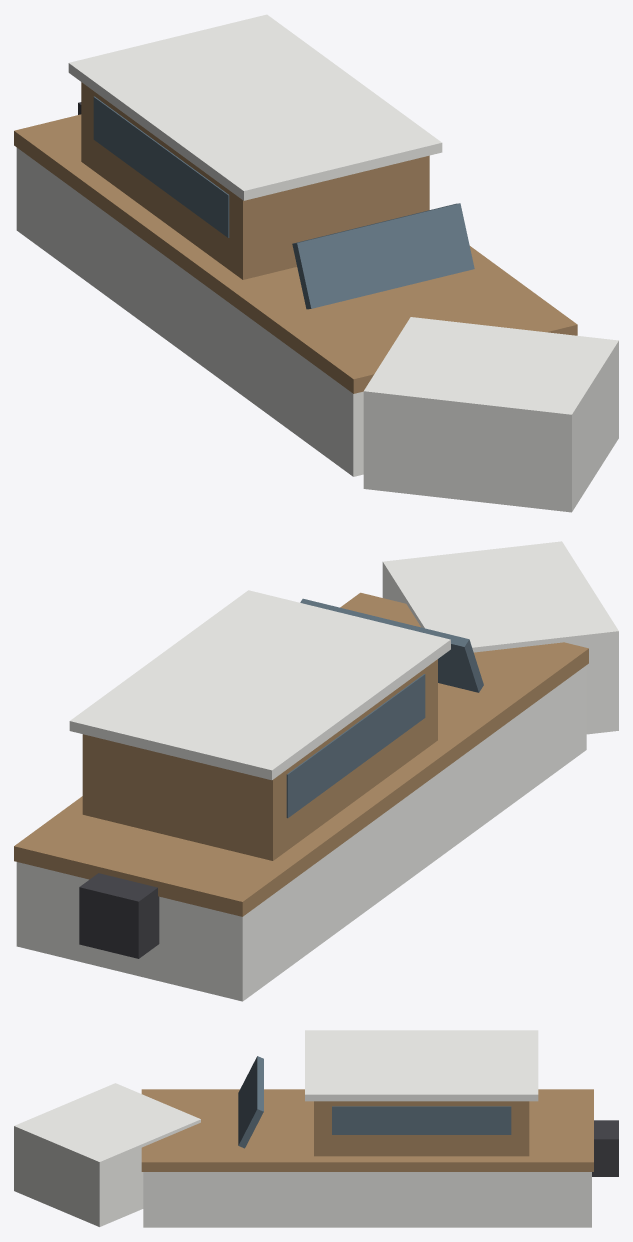
Rendered from VN_Lancha.fbx.
3 views of the same model, one above another, from view 1: azimuth 30°, elevation 25°; view 2: azimuth 150°, elevation 25°; view 3: azimuth 270°, elevation 25° (orthographic). The views are drawn at different scales.
Parts seen in each view (by area): view 1: VN_Lancha; view 2: VN_Lancha; view 3: VN_Lancha.
Part boxes in pixels (bbox=[...]): VN_Lancha: bbox=[14, 14, 618, 512]; VN_Lancha: bbox=[14, 541, 618, 1001]; VN_Lancha: bbox=[14, 1030, 618, 1227].
Size of the model in its own units: 2.09 by 1.59 by 6.74.
